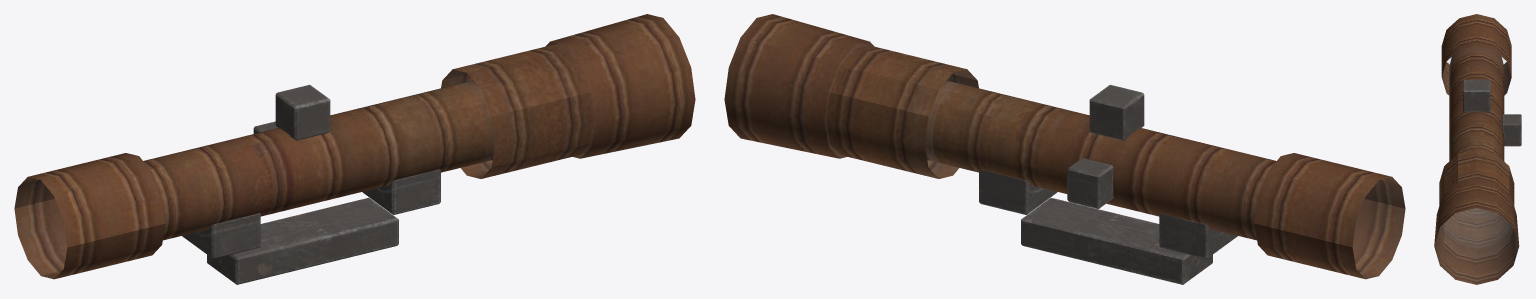
Rendered from longwatch_6x.glb.
The picture shows the model from 3 angles, left to right: view 1: azimuth 30°, elevation 25°; view 2: azimuth 150°, elevation 25°; view 3: azimuth 270°, elevation 25°; orthographic projection. The views are drawn at different scales.
Parts seen in each view (by area): view 1: longwatch_6x; view 2: longwatch_6x; view 3: longwatch_6x, Lens.
Part boxes in pixels (x1=…): longwatch_6x: x1=14, y1=14, x2=695, y2=284; longwatch_6x: x1=724, y1=14, x2=1405, y2=284; longwatch_6x: x1=1434, y1=14, x2=1521, y2=284; Lens: x1=1440, y1=58, x2=1512, y2=258.
Size of the model in its own units: 0.38 by 0.093 by 0.07.
Materials: 2 (1 with a texture image).
